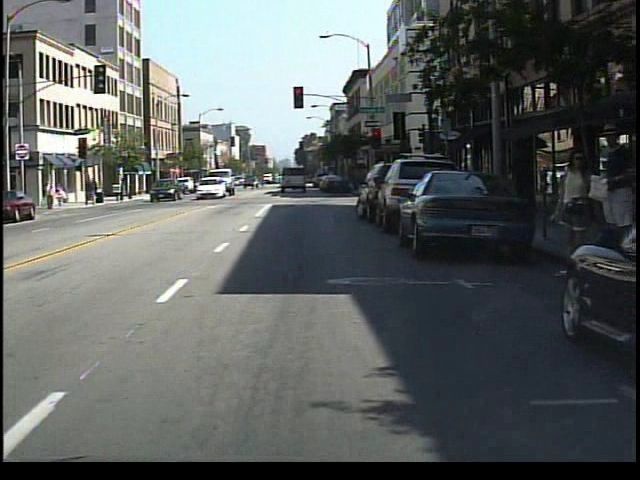person: (552, 143, 597, 289), (591, 117, 626, 283), (45, 179, 59, 213), (55, 183, 70, 211)
